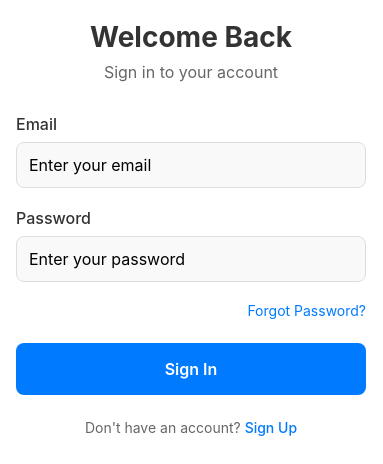
it: LoginScreen › Form Validation › should validate password length requirements
# Enter short password
Type "test@example.com" into the field with placeholder "Enter your email" at (191, 165), box [16, 142, 366, 188]
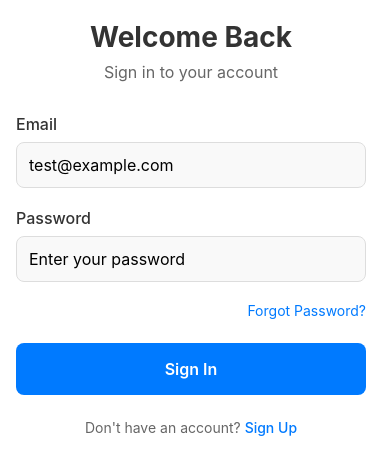
Type "123" into the password field with placeholder "Enter your password" at (191, 259), box [16, 236, 366, 282]
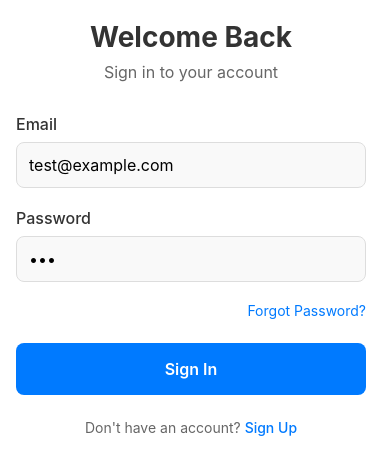
Click the text "Sign In" at (191, 369), box [165, 359, 217, 379]
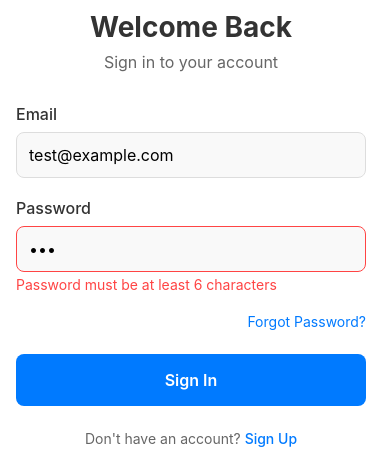
Expected: the text "Password must be at least 6 characters" is shown, [16, 276, 277, 292]
